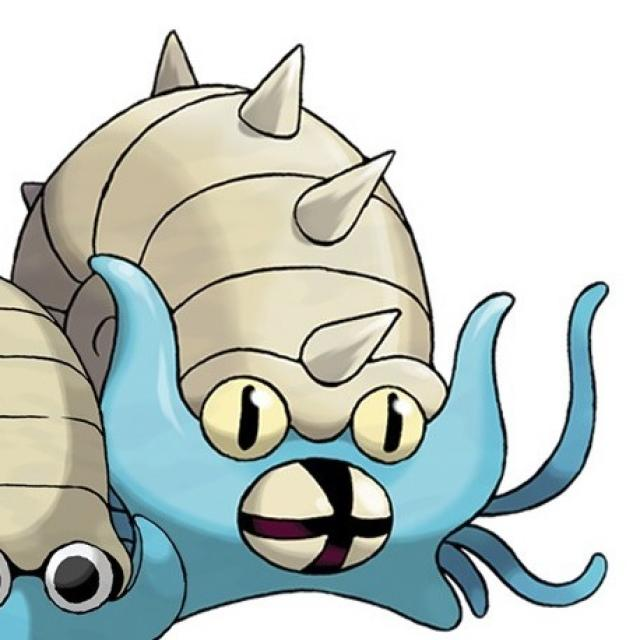Omastar: (65, 74, 482, 640)
